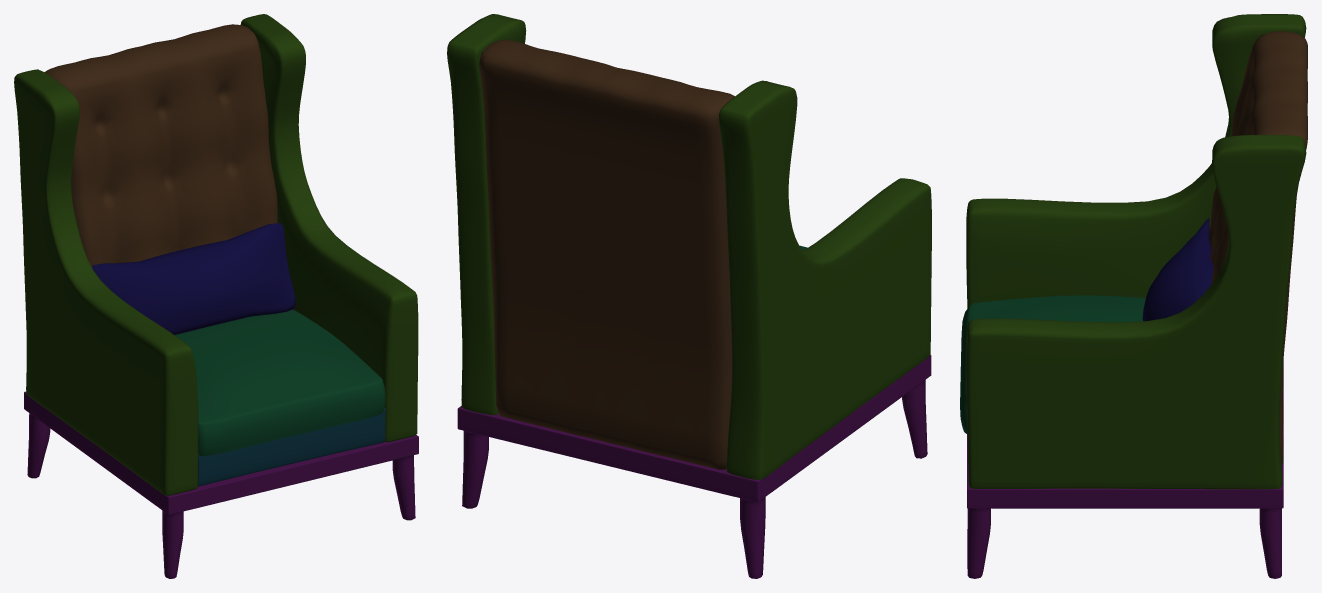
File: Sofa vID2.fbx
3 renders of one model, left to right at view 1: azimuth 30°, elevation 25°; view 2: azimuth 150°, elevation 25°; view 3: azimuth 270°, elevation 25°, orthographic. The views are drawn at different scales.
Visible parts, largest first — view 1: Sofa_Seat; view 2: Sofa_Seat; view 3: Sofa_Seat.
Part boxes in pixels (left/top/right/bottom): Sofa_Seat: left=14, top=14, right=418, bottom=578; Sofa_Seat: left=447, top=14, right=931, bottom=578; Sofa_Seat: left=960, top=14, right=1307, bottom=578.
Bounding box in the file's own units: 76.25 × 114 × 82.98.
